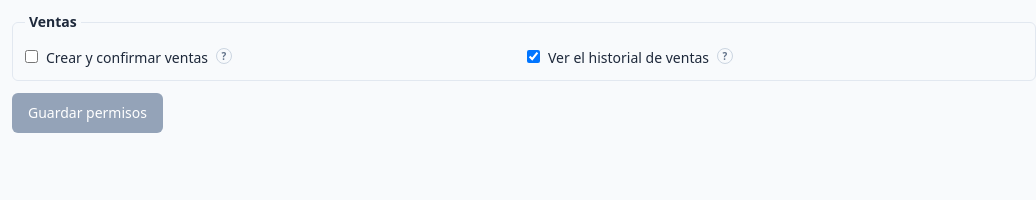
Scenario: RolePermissionsEditor › shows the specific ADR-0034 explanation when the backend rejects with ROLE_SELF_PERMISSION_ESCALATION
Click the checkbox labelled "Crear y confirmar ventas". click: (32, 56)
box: [25, 50, 38, 63]
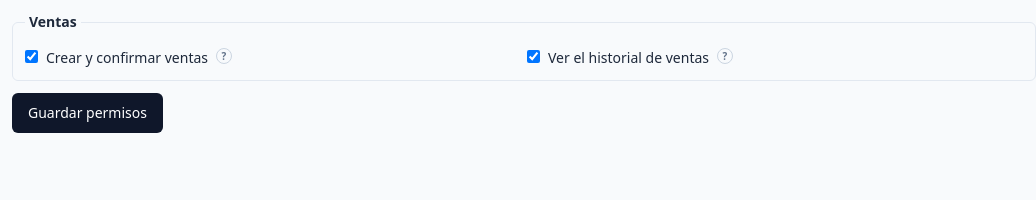
Click the button "Guardar permisos". click: (88, 113)
box: [12, 93, 163, 133]
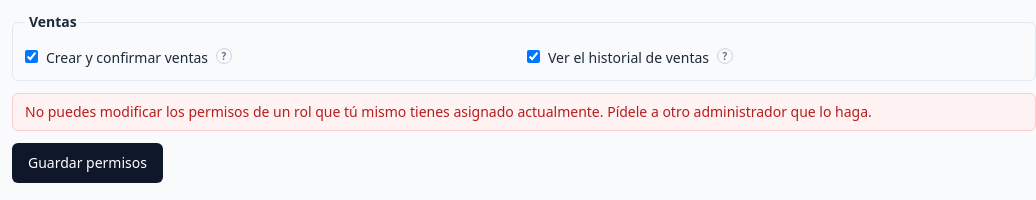
Now the text "No puedes modificar los permisos de un rol que tú mismo tienes asignado" is shown, box [25, 102, 872, 121]
